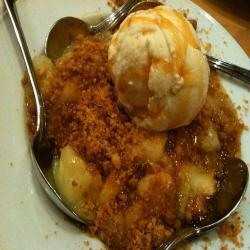apple_pie: (30, 25, 236, 240)
icecream: (105, 5, 216, 136)
